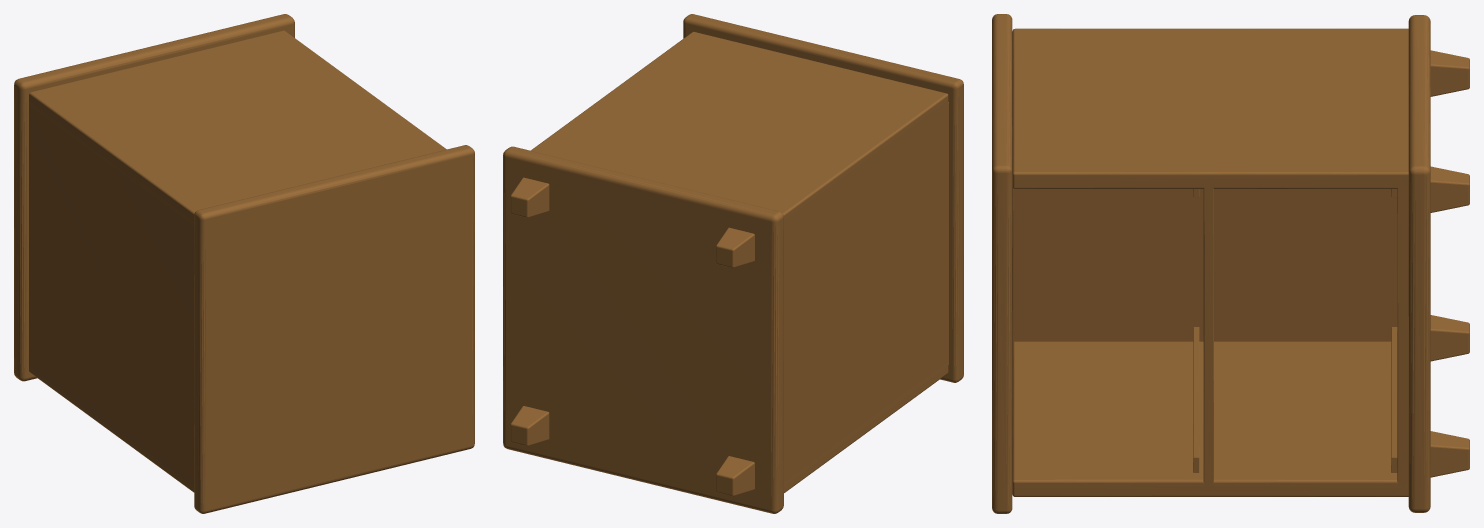
3 views of the same model, side by side, from view 1: azimuth 30°, elevation 25°; view 2: azimuth 150°, elevation 25°; view 3: azimuth 270°, elevation 25° (orthographic). The views are drawn at different scales.
Parts seen in each view (by area): view 1: __articraft_commit_0000_0000, __articraft_commit_0000_0001, __articraft_commit_0000_0002, __articraft_commit_0000_0007; view 2: __articraft_commit_0000_0000, __articraft_commit_0000_0002, __articraft_commit_0000_0001, __articraft_commit_0000_0003, __articraft_commit_0000_0004, __articraft_commit_0000_0005, __articraft_commit_0000_0006; view 3: __articraft_commit_0000_0000, __articraft_commit_0000_0002, __articraft_commit_0000_0001, __articraft_commit_0000_0007, __articraft_commit_0000_0004, __articraft_commit_0000_0005, __articraft_commit_0000_0003, __articraft_commit_0000_0006.
Part boxes in pixels (x1=…): __articraft_commit_0000_0000: x1=29, y1=30, x2=446, y2=492; __articraft_commit_0000_0001: x1=194, y1=145, x2=474, y2=513; __articraft_commit_0000_0002: x1=14, y1=14, x2=294, y2=381; __articraft_commit_0000_0007: x1=113, y1=168, x2=117, y2=425; __articraft_commit_0000_0000: x1=531, y1=31, x2=948, y2=492; __articraft_commit_0000_0002: x1=503, y1=146, x2=783, y2=513; __articraft_commit_0000_0001: x1=683, y1=14, x2=963, y2=382; __articraft_commit_0000_0003: x1=510, y1=177, x2=549, y2=217; __articraft_commit_0000_0004: x1=510, y1=406, x2=549, y2=446; __articraft_commit_0000_0005: x1=716, y1=227, x2=754, y2=267; __articraft_commit_0000_0006: x1=716, y1=456, x2=754, y2=496; __articraft_commit_0000_0000: x1=1012, y1=28, x2=1408, y2=496; __articraft_commit_0000_0002: x1=1408, y1=15, x2=1430, y2=512; __articraft_commit_0000_0001: x1=992, y1=14, x2=1012, y2=513; __articraft_commit_0000_0007: x1=1203, y1=184, x2=1213, y2=486; __articraft_commit_0000_0004: x1=1430, y1=431, x2=1469, y2=477; __articraft_commit_0000_0005: x1=1430, y1=50, x2=1469, y2=96; __articraft_commit_0000_0003: x1=1430, y1=166, x2=1469, y2=212; __articraft_commit_0000_0006: x1=1430, y1=315, x2=1469, y2=361.
Bounding box in the file's own units: 0.432 × 0.45 × 0.56.
